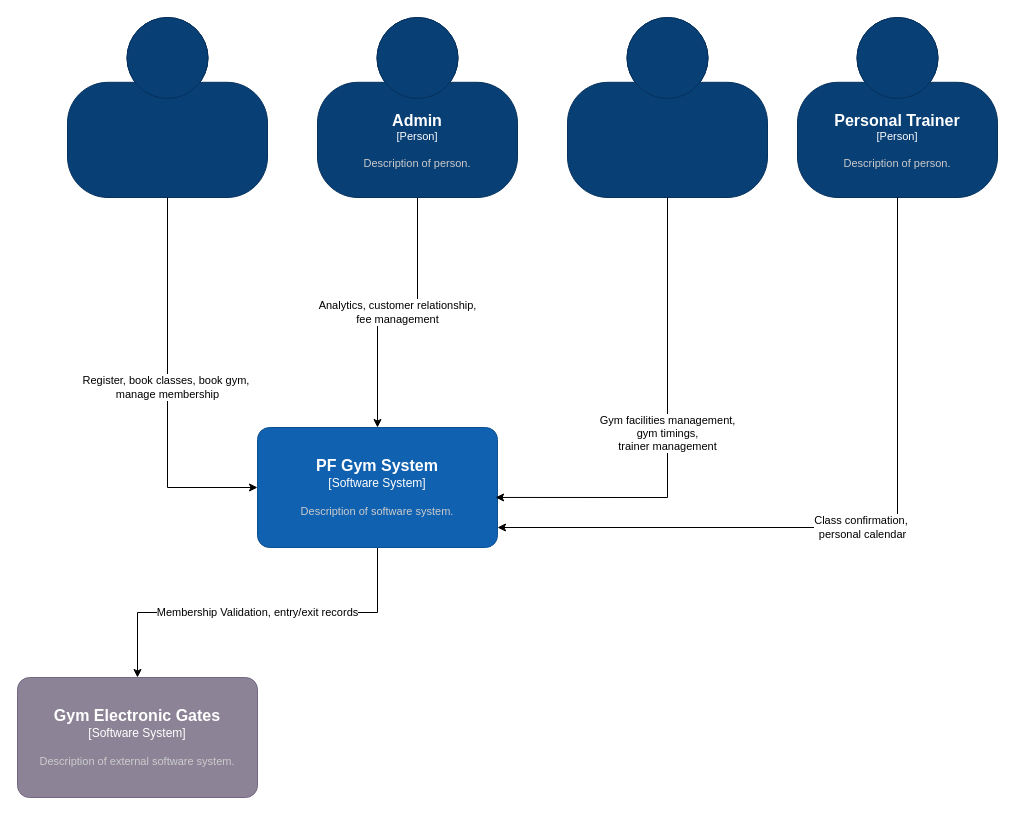
The diagram is 1015 pixels wide and 815 high, and some of its shapes have lost their labels. The shapes that lost their labels are listed below. From the top down, each one's centre as x and y in pixels, then its label:
At (x=167, y=107): "Member [Person] Description of person.".
At (x=667, y=107): "Gym Admin [Person] Description of person.".
